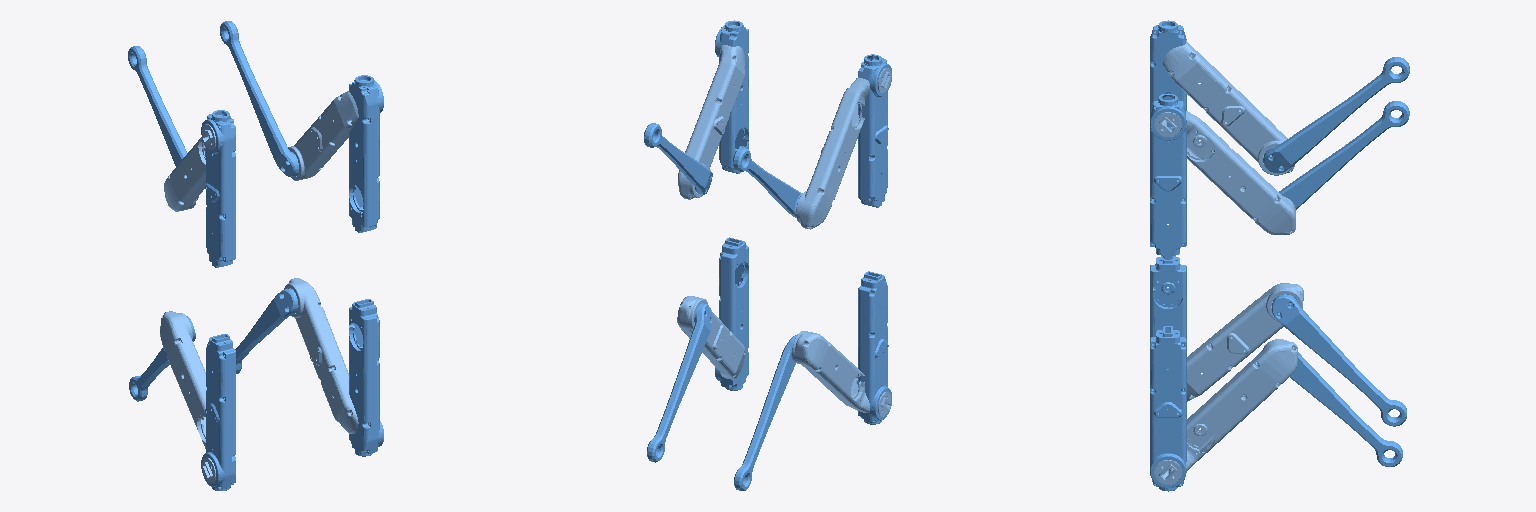
URDF robot description (quadped_urdf):
<?xml version="1.0" encoding="utf-8"?>
<!-- This URDF was automatically created by SolidWorks to URDF Exporter! Originally created by [author] ([email redacted]) 
     Commit Version: 1.6.0-4-g7f85cfe  Build Version: 1.6.7995.38578
     For more information, please see http://wiki.ros.org/sw_urdf_exporter -->
<robot
  name="quadped_urdf">
  <link
    name="base_link">
    <inertial>
      <origin
        xyz="0.000199869485857869 0.000556619002151084 0.00469963496815284"
        rpy="0 0 0" />
      <mass
        value="0.670811138520923" />
      <inertia
        ixx="0.000375618663416432"
        ixy="2.42317909402465E-08"
        ixz="4.33100484218247E-06"
        iyy="0.000838609036708274"
        iyz="5.47863479312491E-07"
        izz="0.000624542308718559" />
    </inertial>
    <visual>
      <origin
        xyz="0 0 0"
        rpy="0 0 0" />
      <geometry>
        <mesh
          filename="package://quadped_urdf/meshes/base_link.STL" />
      </geometry>
      <material
        name="">
        <color
          rgba="0.752941176470588 0.752941176470588 0.752941176470588 1" />
      </material>
    </visual>
    <collision>
      <origin
        xyz="0 0 0"
        rpy="0 0 0" />
      <geometry>
        <mesh
          filename="package://quadped_urdf/meshes/base_link.STL" />
      </geometry>
    </collision>
  </link>
  <link
    name="fe_1">
    <inertial>
      <origin
        xyz="0.000133784347622304 4.77330235079005E-05 0.106028370145983"
        rpy="0 0 0" />
      <mass
        value="0.0410869722409442" />
      <inertia
        ixx="0.00011531160730975"
        ixy="1.29677045975409E-08"
        ixz="2.07977871016147E-07"
        iyy="0.000110878132321103"
        iyz="1.25387573590273E-07"
        izz="8.60693868056784E-06" />
    </inertial>
    <visual>
      <origin
        xyz="0 0 0"
        rpy="0 0 0" />
      <geometry>
        <mesh
          filename="package://quadped_urdf/meshes/fe_1.STL" />
      </geometry>
      <material
        name="">
        <color
          rgba="0.466666666666667 0.733333333333333 1 1" />
      </material>
    </visual>
    <collision>
      <origin
        xyz="0 0 0"
        rpy="0 0 0" />
      <geometry>
        <mesh
          filename="package://quadped_urdf/meshes/fe_1.STL" />
      </geometry>
    </collision>
  </link>
  <joint
    name="fixed_fe_joint1"
    type="continuous">
    <origin
      xyz="0.0875 0 0.02955"
      rpy="0 0 0" />
    <parent
      link="base_link" />
    <child
      link="fe_1" />
    <axis
      xyz="0 0 1" />
  </joint>
  <link
    name="upper_1">
    <inertial>
      <origin
        xyz="-0.0597384086105178 -0.0577400488263468 -0.0211210718210717"
        rpy="0 0 0" />
      <mass
        value="0.0446543406730976" />
      <inertia
        ixx="7.77450392778894E-05"
        ixy="-6.95025591666466E-05"
        ixz="-7.26036146442219E-06"
        iyy="8.27688720251678E-05"
        iyz="-7.00120031315984E-06"
        izz="0.00015285801774174" />
    </inertial>
    <visual>
      <origin
        xyz="0 0 0"
        rpy="0 0 0" />
      <geometry>
        <mesh
          filename="package://quadped_urdf/meshes/upper_1.STL" />
      </geometry>
      <material
        name="">
        <color
          rgba="0.619607843137255 0.807843137254902 1 1" />
      </material>
    </visual>
    <collision>
      <origin
        xyz="0 0 0"
        rpy="0 0 0" />
      <geometry>
        <mesh
          filename="package://quadped_urdf/meshes/upper_1.STL" />
      </geometry>
    </collision>
  </link>
  <joint
    name="fe_upper_1"
    type="continuous">
    <origin
      xyz="0.014 0 0.1648"
      rpy="3.14159265358979 -1.5707963267949 0" />
    <parent
      link="fe_1" />
    <child
      link="upper_1" />
    <axis
      xyz="0 0 1" />
  </joint>
  <link
    name="lower_1">
    <inertial>
      <origin
        xyz="-0.0451015746230226 -0.0511635786738877 0.0071128841582116"
        rpy="0 0 0" />
      <mass
        value="0.0342018777935593" />
      <inertia
        ixx="5.78661077701089E-05"
        ixy="-4.96017387584486E-05"
        ixz="1.2917130837338E-06"
        iyy="4.53223712452692E-05"
        iyz="1.46532747000408E-06"
        izz="0.000102339922101355" />
    </inertial>
    <visual>
      <origin
        xyz="0 0 0"
        rpy="0 0 0" />
      <geometry>
        <mesh
          filename="package://quadped_urdf/meshes/lower_1.STL" />
      </geometry>
      <material
        name="">
        <color
          rgba="0.466666666666667 0.733333333333333 1 1" />
      </material>
    </visual>
    <collision>
      <origin
        xyz="0 0 0"
        rpy="0 0 0" />
      <geometry>
        <mesh
          filename="package://quadped_urdf/meshes/lower_1.STL" />
      </geometry>
    </collision>
  </link>
  <joint
    name="upper_lower1"
    type="continuous">
    <origin
      xyz="-0.115099296377973 -0.111140235723614 -0.037449999892348"
      rpy="3.14159265358979 0 3.14159265358979" />
    <parent
      link="upper_1" />
    <child
      link="lower_1" />
    <axis
      xyz="0 0 -1" />
  </joint>
  <link
    name="fe_2">
    <inertial>
      <origin
        xyz="0.000133783663271922 -4.77318376975103E-05 -0.120628370705068"
        rpy="0 0 0" />
      <mass
        value="0.0410869680075753" />
      <inertia
        ixx="0.000115311606588616"
        ixy="-1.29680490679935E-08"
        ixz="-2.07977716884497E-07"
        iyy="0.00011087813235385"
        iyz="1.25387311435636E-07"
        izz="8.60693825829928E-06" />
    </inertial>
    <visual>
      <origin
        xyz="0 0 0"
        rpy="0 0 0" />
      <geometry>
        <mesh
          filename="package://quadped_urdf/meshes/fe_2.STL" />
      </geometry>
      <material
        name="">
        <color
          rgba="0.466666666666667 0.733333333333333 1 1" />
      </material>
    </visual>
    <collision>
      <origin
        xyz="0 0 0"
        rpy="0 0 0" />
      <geometry>
        <mesh
          filename="package://quadped_urdf/meshes/fe_2.STL" />
      </geometry>
    </collision>
  </link>
  <joint
    name="fixed_fe2"
    type="continuous">
    <origin
      xyz="0.0875 0 -0.01505"
      rpy="0 0 0" />
    <parent
      link="base_link" />
    <child
      link="fe_2" />
    <axis
      xyz="0 0 -1" />
  </joint>
  <link
    name="upper_2">
    <inertial>
      <origin
        xyz="0.0589909759927409 -0.0585038831685175 -0.0211210807910604"
        rpy="0 0 0" />
      <mass
        value="0.0446542245768807" />
      <inertia
        ixx="7.98280498328104E-05"
        ixy="6.95465211209788E-05"
        ixz="7.1532103850981E-06"
        iyy="8.06879995257044E-05"
        iyz="-7.11064311154229E-06"
        izz="0.000152857828919439" />
    </inertial>
    <visual>
      <origin
        xyz="0 0 0"
        rpy="0 0 0" />
      <geometry>
        <mesh
          filename="package://quadped_urdf/meshes/upper_2.STL" />
      </geometry>
      <material
        name="">
        <color
          rgba="0.619607843137255 0.807843137254902 1 1" />
      </material>
    </visual>
    <collision>
      <origin
        xyz="0 0 0"
        rpy="0 0 0" />
      <geometry>
        <mesh
          filename="package://quadped_urdf/meshes/upper_2.STL" />
      </geometry>
    </collision>
  </link>
  <joint
    name="fe_upper2"
    type="continuous">
    <origin
      xyz="0.014 0 -0.1794"
      rpy="3.14159265358979 -1.5707963267949 0" />
    <parent
      link="fe_2" />
    <child
      link="upper_2" />
    <axis
      xyz="0 0 1" />
  </joint>
  <link
    name="lower_2">
    <inertial>
      <origin
        xyz="0.0488250783006519 -0.0476232678429994 0.00711288414141042"
        rpy="0 0 0" />
      <mass
        value="0.0342018770763651" />
      <inertia
        ixx="5.03484849740801E-05"
        ixy="4.99811652852977E-05"
        ixz="-1.39835266732097E-06"
        iyy="5.28399931282873E-05"
        iyz="1.36393449757027E-06"
        izz="0.000102339921207292" />
    </inertial>
    <visual>
      <origin
        xyz="0 0 0"
        rpy="0 0 0" />
      <geometry>
        <mesh
          filename="package://quadped_urdf/meshes/lower_2.STL" />
      </geometry>
      <material
        name="">
        <color
          rgba="0.466666666666667 0.733333333333333 1 1" />
      </material>
    </visual>
    <collision>
      <origin
        xyz="0 0 0"
        rpy="0 0 0" />
      <geometry>
        <mesh
          filename="package://quadped_urdf/meshes/lower_2.STL" />
      </geometry>
    </collision>
  </link>
  <joint
    name="upper_lower2"
    type="continuous">
    <origin
      xyz="0.113550017656808 -0.11272263975711 -0.0374499998987262"
      rpy="-3.14159265358979 0 -3.14159265358979" />
    <parent
      link="upper_2" />
    <child
      link="lower_2" />
    <axis
      xyz="0 0 -1" />
  </joint>
  <link
    name="fe_3">
    <inertial>
      <origin
        xyz="-0.000133784343773896 -4.77306488392214E-05 0.120628370198019"
        rpy="0 0 0" />
      <mass
        value="0.0410869722175319" />
      <inertia
        ixx="0.00011531160729402"
        ixy="1.29683942005516E-08"
        ixz="-2.07977852336387E-07"
        iyy="0.000110878131679831"
        iyz="-1.2538706892328E-07"
        izz="8.60693806694117E-06" />
    </inertial>
    <visual>
      <origin
        xyz="0 0 0"
        rpy="0 0 0" />
      <geometry>
        <mesh
          filename="package://quadped_urdf/meshes/fe_3.STL" />
      </geometry>
      <material
        name="">
        <color
          rgba="0.466666666666667 0.733333333333333 1 1" />
      </material>
    </visual>
    <collision>
      <origin
        xyz="0 0 0"
        rpy="0 0 0" />
      <geometry>
        <mesh
          filename="package://quadped_urdf/meshes/fe_3.STL" />
      </geometry>
    </collision>
  </link>
  <joint
    name="fixed_fe3"
    type="continuous">
    <origin
      xyz="-0.0875 0 0.0150499999999999"
      rpy="0 0 0" />
    <parent
      link="base_link" />
    <child
      link="fe_3" />
    <axis
      xyz="0 0 1" />
  </joint>
  <link
    name="upper_3">
    <inertial>
      <origin
        xyz="-0.0604981268118873 -0.0569429106565106 0.0211209869663977"
        rpy="0 0 0" />
      <mass
        value="0.0446546348773634" />
      <inertia
        ixx="7.61977883784226E-05"
        ixy="-6.94292608686278E-05"
        ixz="7.33647161233422E-06"
        iyy="8.43186953376684E-05"
        iyz="6.92142192601393E-06"
        izz="0.000152857887920906" />
    </inertial>
    <visual>
      <origin
        xyz="0 0 0"
        rpy="0 0 0" />
      <geometry>
        <mesh
          filename="package://quadped_urdf/meshes/upper_3.STL" />
      </geometry>
      <material
        name="">
        <color
          rgba="0.619607843137255 0.807843137254902 1 1" />
      </material>
    </visual>
    <collision>
      <origin
        xyz="0 0 0"
        rpy="0 0 0" />
      <geometry>
        <mesh
          filename="package://quadped_urdf/meshes/upper_3.STL" />
      </geometry>
    </collision>
  </link>
  <joint
    name="fe_upper3"
    type="continuous">
    <origin
      xyz="-0.014 0 0.1794"
      rpy="3.14159265358979 -1.5707963267949 0" />
    <parent
      link="fe_3" />
    <child
      link="upper_3" />
    <axis
      xyz="0 0 -1" />
  </joint>
  <link
    name="lower_3">
    <inertial>
      <origin
        xyz="-0.0442900756867695 -0.0518676504095001 -0.00711288434835652"
        rpy="0 0 0" />
      <mass
        value="0.0342018772349896" />
      <inertia
        ixx="5.94254807461177E-05"
        ixy="-4.93795547324207E-05"
        ixz="-1.26846981761219E-06"
        iyy="4.37629968314577E-05"
        iyz="-1.48549381364917E-06"
        izz="0.000102339920764835" />
    </inertial>
    <visual>
      <origin
        xyz="0 0 0"
        rpy="0 0 0" />
      <geometry>
        <mesh
          filename="package://quadped_urdf/meshes/lower_3.STL" />
      </geometry>
      <material
        name="">
        <color
          rgba="0.466666666666667 0.733333333333333 1 1" />
      </material>
    </visual>
    <collision>
      <origin
        xyz="0 0 0"
        rpy="0 0 0" />
      <geometry>
        <mesh
          filename="package://quadped_urdf/meshes/lower_3.STL" />
      </geometry>
    </collision>
  </link>
  <joint
    name="upper_lower3"
    type="continuous">
    <origin
      xyz="-0.116454958715717 -0.109718925397384 0.0374499999982159"
      rpy="3.14159265358979 0 -3.14159265358979" />
    <parent
      link="upper_3" />
    <child
      link="lower_3" />
    <axis
      xyz="0 0 1" />
  </joint>
  <link
    name="fe_4">
    <inertial>
      <origin
        xyz="-0.000133784244345653 4.77307753636163E-05 -0.105878371015855"
        rpy="0 0 0" />
      <mass
        value="0.0410869728202433" />
      <inertia
        ixx="0.000115311609365403"
        ixy="-1.29684323868918E-08"
        ixz="2.07978100591953E-07"
        iyy="0.000110878134389651"
        iyz="-1.25386757701034E-07"
        izz="8.60693880041462E-06" />
    </inertial>
    <visual>
      <origin
        xyz="0 0 0"
        rpy="0 0 0" />
      <geometry>
        <mesh
          filename="package://quadped_urdf/meshes/fe_4.STL" />
      </geometry>
      <material
        name="">
        <color
          rgba="0.466666666666667 0.733333333333333 1 1" />
      </material>
    </visual>
    <collision>
      <origin
        xyz="0 0 0"
        rpy="0 0 0" />
      <geometry>
        <mesh
          filename="package://quadped_urdf/meshes/fe_4.STL" />
      </geometry>
    </collision>
  </link>
  <joint
    name="fixed_fe4"
    type="continuous">
    <origin
      xyz="-0.0875 0 -0.0297"
      rpy="0 0 0" />
    <parent
      link="base_link" />
    <child
      link="fe_4" />
    <axis
      xyz="0 0 -1" />
  </joint>
  <link
    name="upper_4">
    <inertial>
      <origin
        xyz="0.0559181010152732 -0.0614465869752386 0.0211209824502505"
        rpy="0 0 0" />
      <mass
        value="0.0446546254311322" />
      <inertia
        ixx="8.66459519584787E-05"
        ixy="6.9253565215849E-05"
        ixz="-6.7971455511834E-06"
        iyy="7.38627775858064E-05"
        iyz="7.45176677363446E-06"
        izz="0.000152857864044894" />
    </inertial>
    <visual>
      <origin
        xyz="0 0 0"
        rpy="0 0 0" />
      <geometry>
        <mesh
          filename="package://quadped_urdf/meshes/upper_4.STL" />
      </geometry>
      <material
        name="">
        <color
          rgba="0.619607843137255 0.807843137254902 1 1" />
      </material>
    </visual>
    <collision>
      <origin
        xyz="0 0 0"
        rpy="0 0 0" />
      <geometry>
        <mesh
          filename="package://quadped_urdf/meshes/upper_4.STL" />
      </geometry>
    </collision>
  </link>
  <joint
    name="fe_upper4"
    type="continuous">
    <origin
      xyz="-0.014 0 -0.16465"
      rpy="3.14159265358979 -1.5707963267949 0" />
    <parent
      link="fe_4" />
    <child
      link="upper_4" />
    <axis
      xyz="0 0 -1" />
  </joint>
  <link
    name="lower_4">
    <inertial>
      <origin
        xyz="0.0492622082174013 -0.047170952259612 -0.00711288432869739"
        rpy="0 0 0" />
      <mass
        value="0.0342018774179522" />
      <inertia
        ixx="4.94267586230462E-05"
        ixy="4.99496830473901E-05"
        ixz="1.41087382739234E-06"
        iyy="5.37617198399135E-05"
        iyz="-1.3509783468548E-06"
        izz="0.000102339921625709" />
    </inertial>
    <visual>
      <origin
        xyz="0 0 0"
        rpy="0 0 0" />
      <geometry>
        <mesh
          filename="package://quadped_urdf/meshes/lower_4.STL" />
      </geometry>
      <material
        name="">
        <color
          rgba="0.466666666666667 0.733333333333333 1 1" />
      </material>
    </visual>
    <collision>
      <origin
        xyz="0 0 0"
        rpy="0 0 0" />
      <geometry>
        <mesh
          filename="package://quadped_urdf/meshes/lower_4.STL" />
      </geometry>
    </collision>
  </link>
  <joint
    name="upper_lower4"
    type="continuous">
    <origin
      xyz="0.107746216734634 -0.118282512568206 0.0374500000013904"
      rpy="3.14159265358979 0 -3.14159265358979" />
    <parent
      link="upper_4" />
    <child
      link="lower_4" />
    <axis
      xyz="0 0 1" />
  </joint>
</robot>

--- What the picture shows (computed from the rendered views, not written in the file) ---
The picture shows the robot from 3 angles, left to right: view 1: azimuth 30°, elevation 25°; view 2: azimuth 150°, elevation 25°; view 3: azimuth 270°, elevation 25°; orthographic projection.
Robot: quadped_urdf — 13 links, 12 joints (12 continuous); root link base_link; default pose: every joint at zero.
Links seen in each view (by area): view 1: fe_1, fe_2, fe_4, fe_3, upper_2, upper_4, upper_1, lower_1, upper_3, lower_3, lower_2, lower_4; view 2: upper_3, fe_4, fe_3, upper_1, upper_4, fe_2, fe_1, lower_2, upper_2, lower_4, lower_1, lower_3; view 3: upper_2, upper_1, upper_3, fe_2, fe_1, upper_4, lower_4, lower_3, lower_1, fe_4, lower_2, fe_3.
Boxes of the visible links, x1,y1,x2,y2 form: fe_1: (349,75,383,232); fe_2: (349,299,383,456); fe_4: (201,334,235,490); fe_3: (201,110,235,267); upper_2: (284,278,358,433); upper_4: (160,311,215,482); upper_1: (288,91,358,180); lower_1: (220,21,298,176); upper_3: (164,124,215,211); lower_3: (128,46,198,199); lower_2: (235,288,298,373); lower_4: (129,316,195,401); upper_3: (796,68,891,229); fe_4: (858,271,891,424); fe_3: (858,54,891,207); upper_1: (678,45,744,199); upper_4: (792,331,891,416); fe_2: (715,237,748,390); fe_1: (715,20,748,173); lower_2: (647,303,711,462); upper_2: (677,296,744,379); lower_4: (734,334,797,490); lower_1: (644,123,712,194); lower_3: (733,147,802,217); upper_2: (1154,339,1297,484); upper_1: (1154,111,1295,234); upper_3: (1163,40,1294,175); fe_2: (1150,326,1186,491); fe_1: (1150,94,1186,258); upper_4: (1187,283,1303,401); lower_4: (1272,294,1406,426); lower_3: (1263,57,1409,173); lower_1: (1279,101,1409,209); fe_4: (1150,256,1186,368); lower_2: (1290,352,1402,466); fe_3: (1150,20,1186,111).
Size in the robot's own frame: 0.2111 by 0.2634 by 0.4359 metres.
Meshes: 13 distinct files referenced, 12 mesh visuals loaded (12 binary STL); not drawn: 1 (reference not matched to a file when rendering).